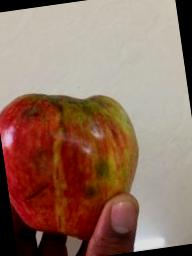Apple Rotten: (0, 77, 151, 254)
